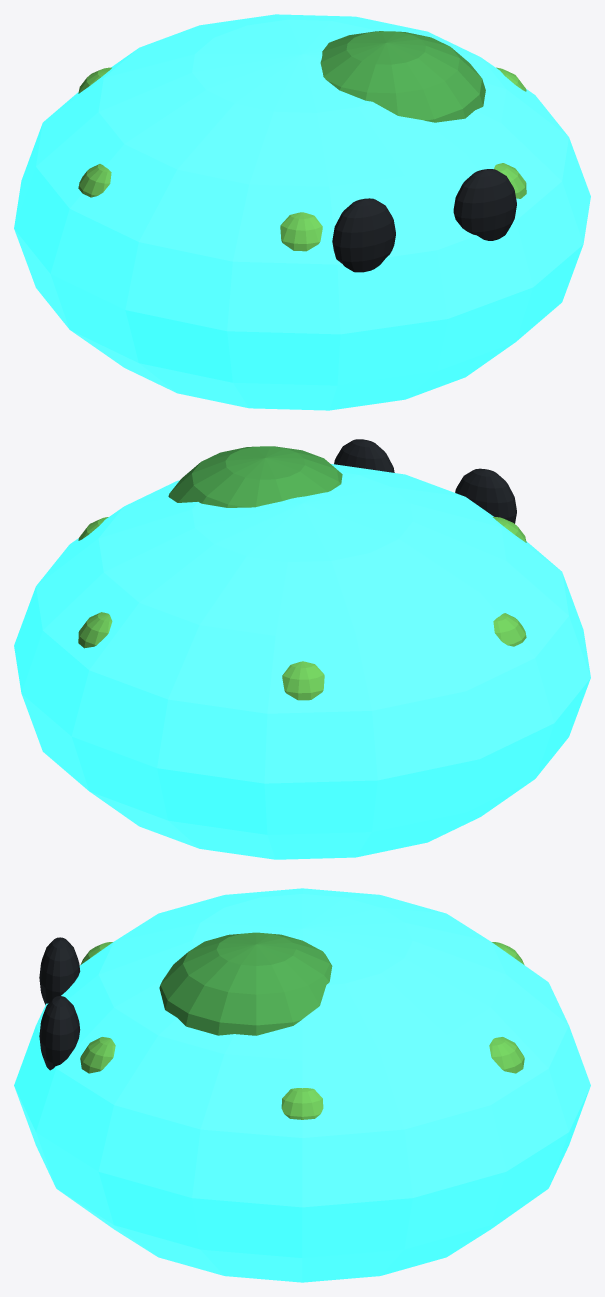
Rendered from cell-lod0.glb.
The picture shows the model from 3 angles, top to bottom: view 1: azimuth 30°, elevation 25°; view 2: azimuth 150°, elevation 25°; view 3: azimuth 270°, elevation 25°; orthographic projection.
Parts seen in each view (by area): view 1: cell; view 2: cell; view 3: cell.
Part boxes in pixels (left/top/right/bottom): cell: left=14, top=14, right=590, bottom=410; cell: left=14, top=439, right=590, bottom=859; cell: left=14, top=888, right=590, bottom=1282.
Size of the model in its own units: 1 by 0.626 by 1.
